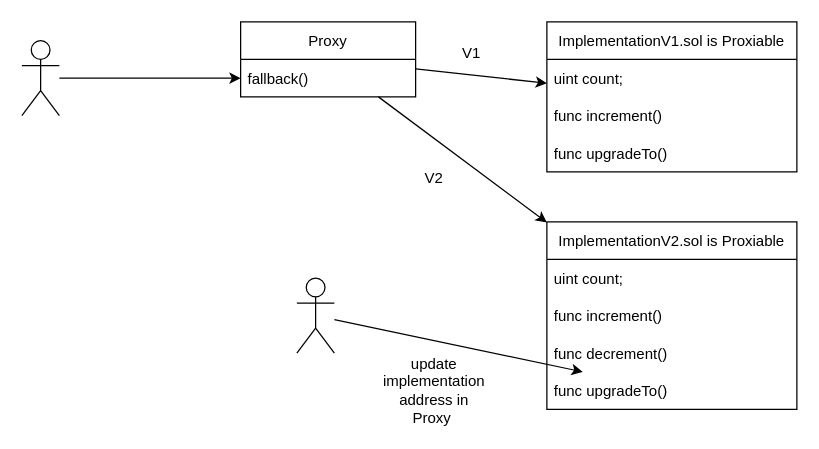
The diagram is 819 pixels wide and 449 high, and some of its shapes have lost their labels. The shapes that lost their labels are listed below. From the top down, each one's centre as x and y in pixels, then its label:
At (40,77): "User".
At (315,315): "Admin".
